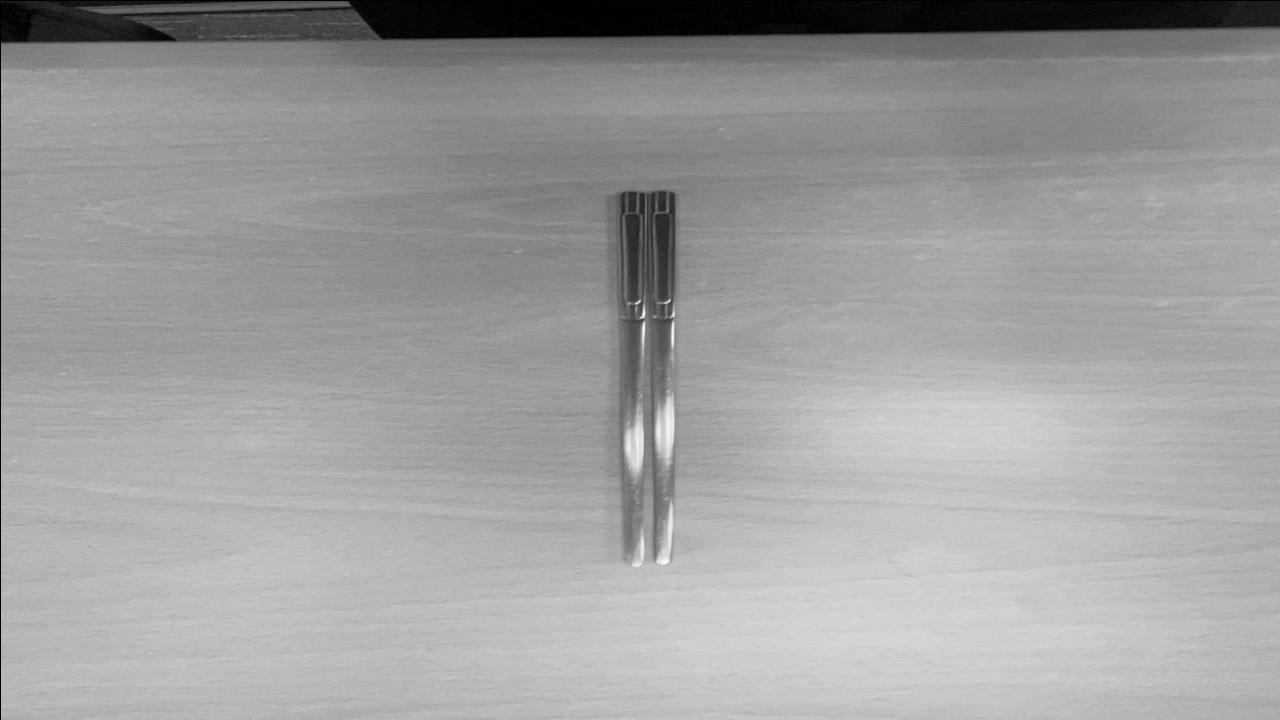chopstick: (611, 192, 681, 566)
